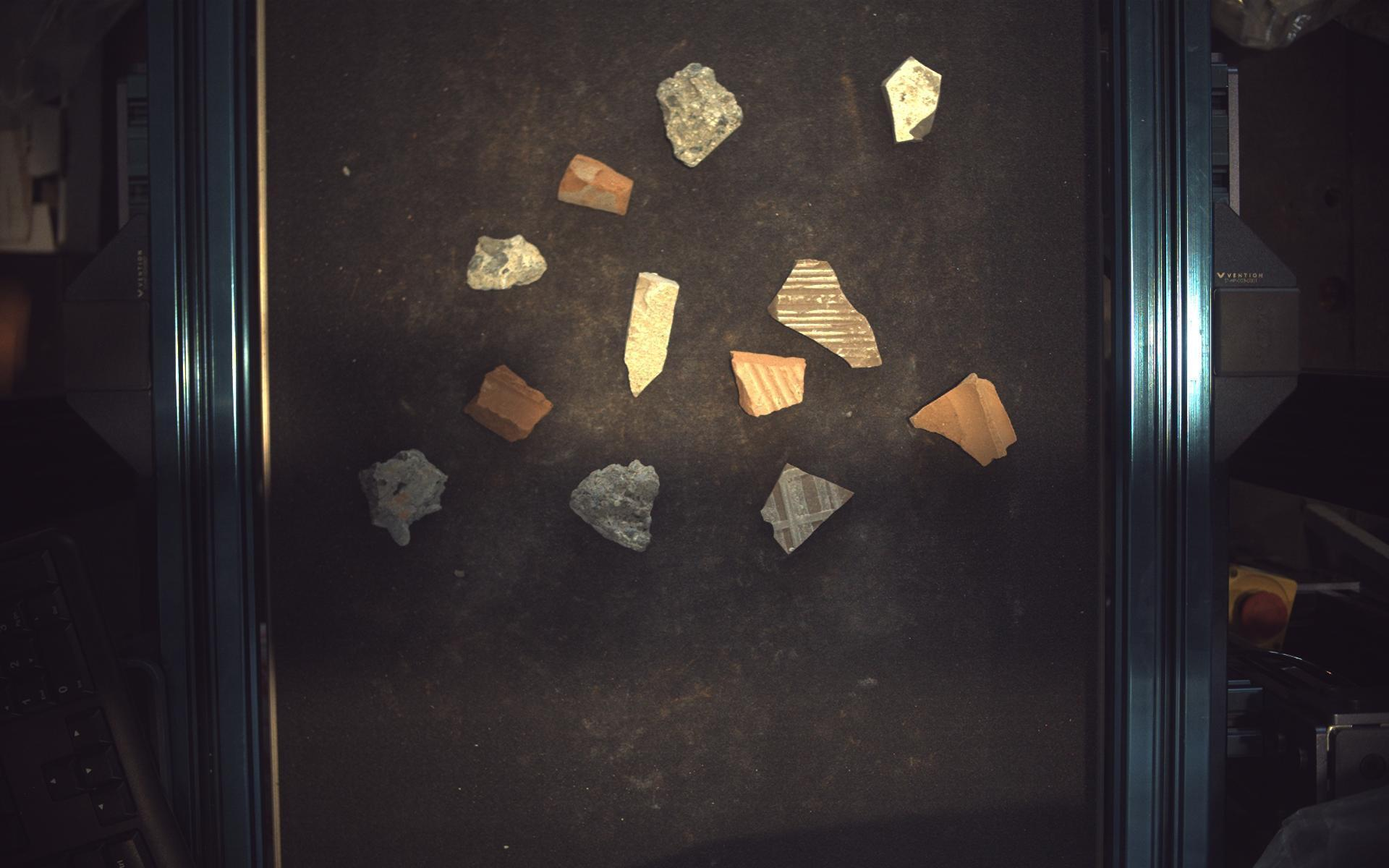brick: (912, 373, 1019, 466), (464, 365, 553, 442), (733, 350, 807, 417), (558, 154, 634, 215)
concrete: (658, 61, 744, 166), (358, 450, 447, 546), (571, 460, 660, 553), (467, 234, 548, 290)
tile: (769, 258, 884, 367), (763, 464, 854, 554), (625, 272, 680, 396), (884, 56, 942, 141)
